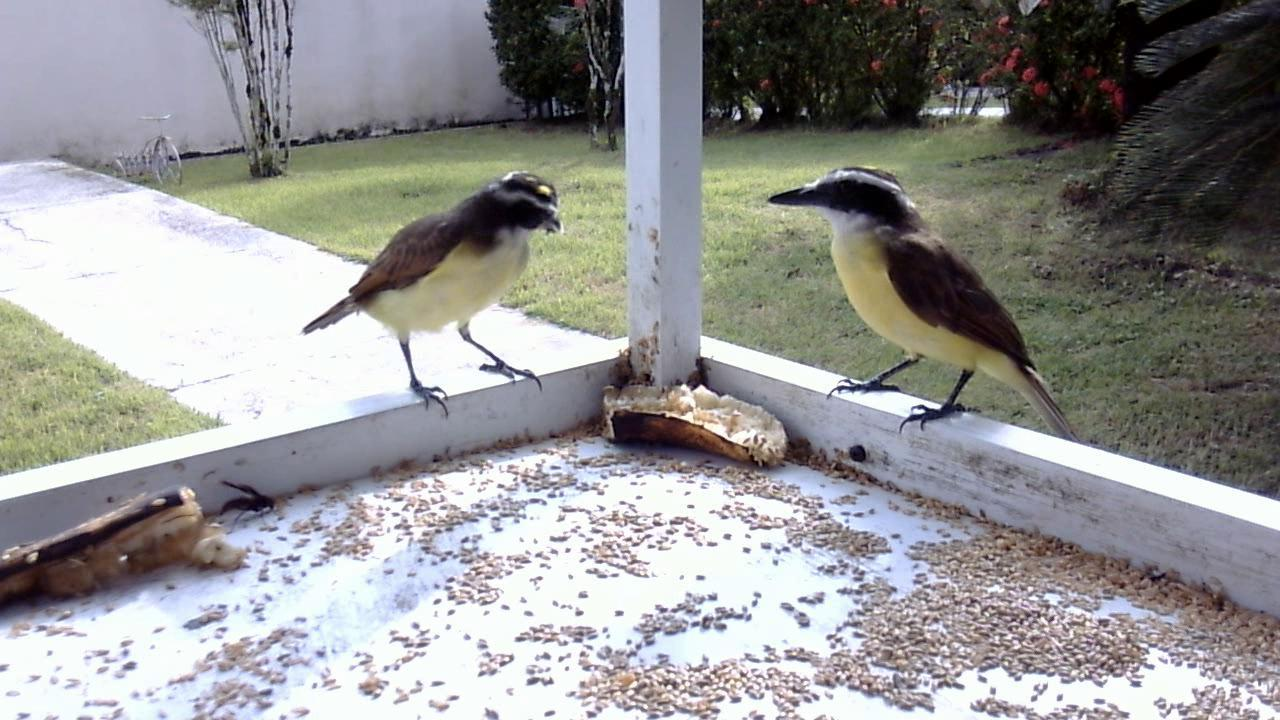bem_te_vi: (761, 163, 1095, 455), (290, 162, 564, 433)
